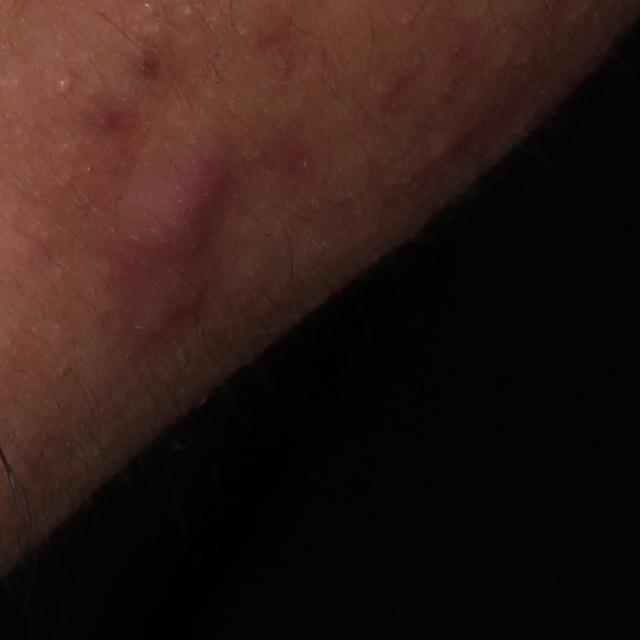comedo: (48, 74, 75, 101)
nodule: (105, 134, 237, 331)
